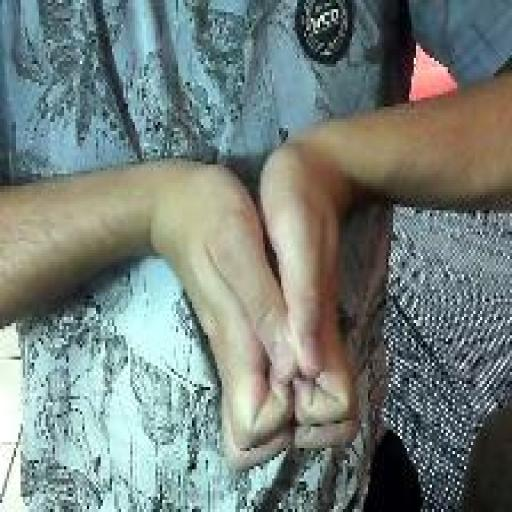I -boar-: (162, 148, 364, 477)
